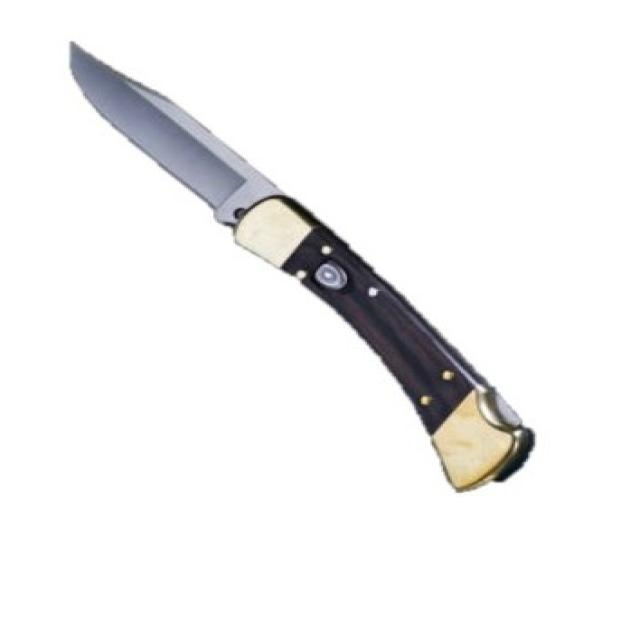knife: (59, 36, 545, 498)
